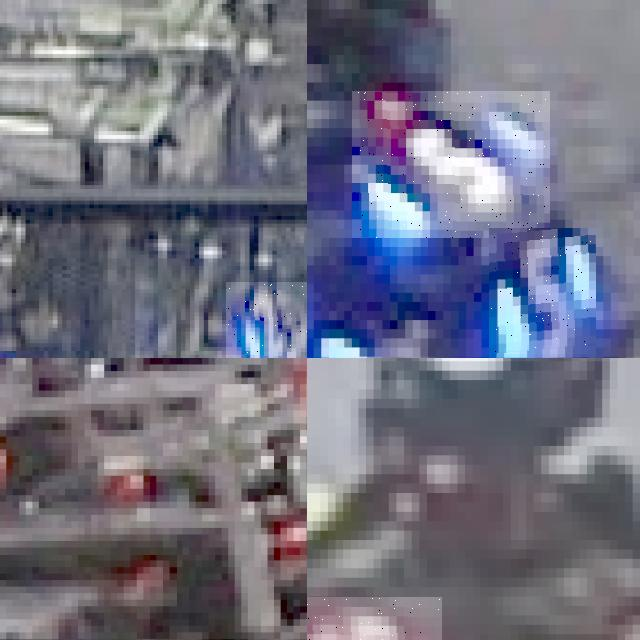B2: (226, 281, 307, 358)
B5: (352, 91, 550, 238), (489, 228, 596, 356)
R5: (307, 596, 442, 640)
